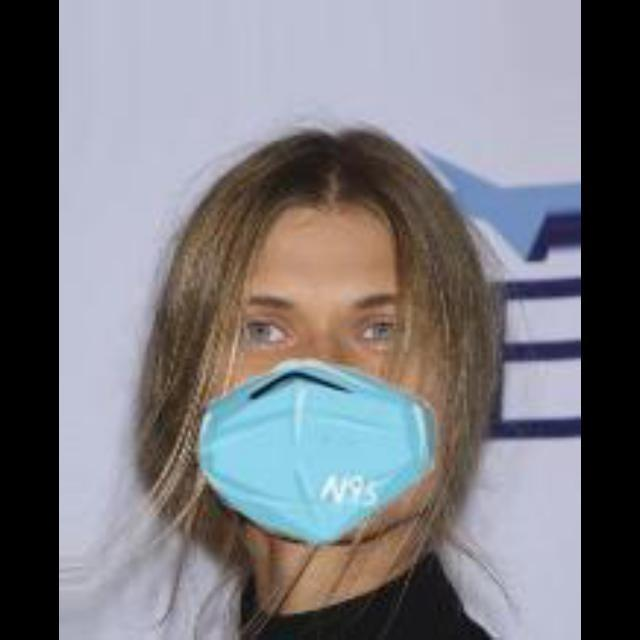suspicion: (155, 141, 577, 607)
